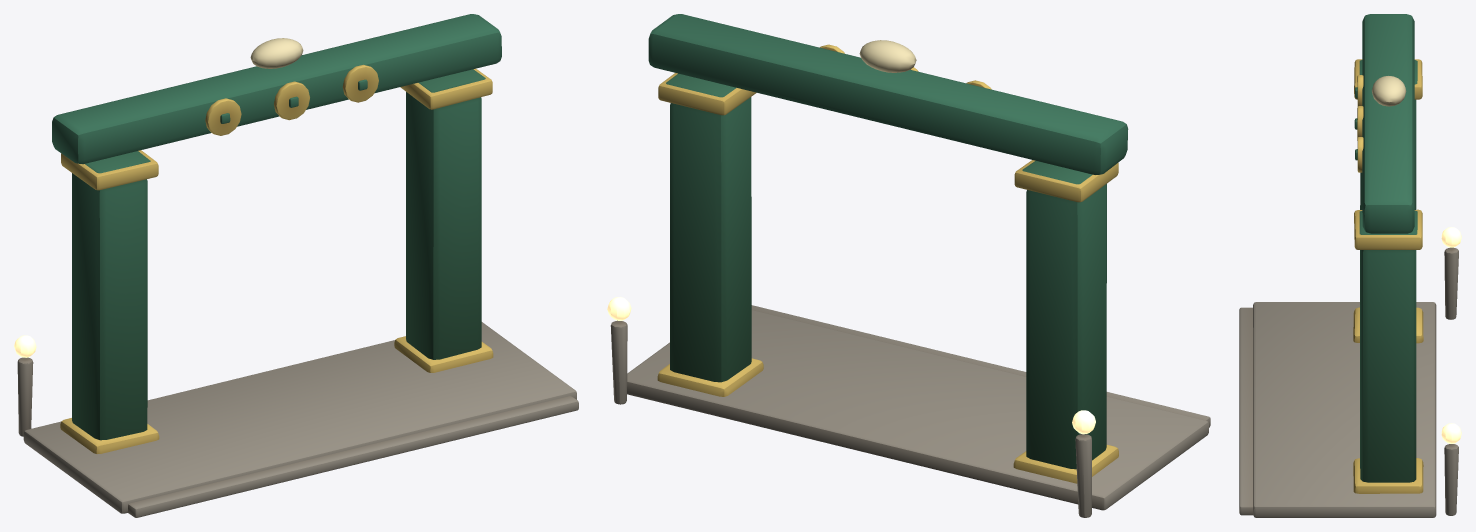
3 views of the same model, side by side, from view 1: azimuth 30°, elevation 25°; view 2: azimuth 150°, elevation 25°; view 3: azimuth 270°, elevation 25° (orthographic). The views are drawn at different scales.
Visible parts, largest first — view 1: gate_88888d5c; view 2: gate_88888d5c; view 3: gate_88888d5c.
Part boxes in pixels (<box>): gate_88888d5c: <box>14,14,578,517</box>; gate_88888d5c: <box>607,14,1210,517</box>; gate_88888d5c: <box>1239,14,1461,517</box>.
Bounding box in the file's own units: 5.58 × 4.27 × 2.55.
